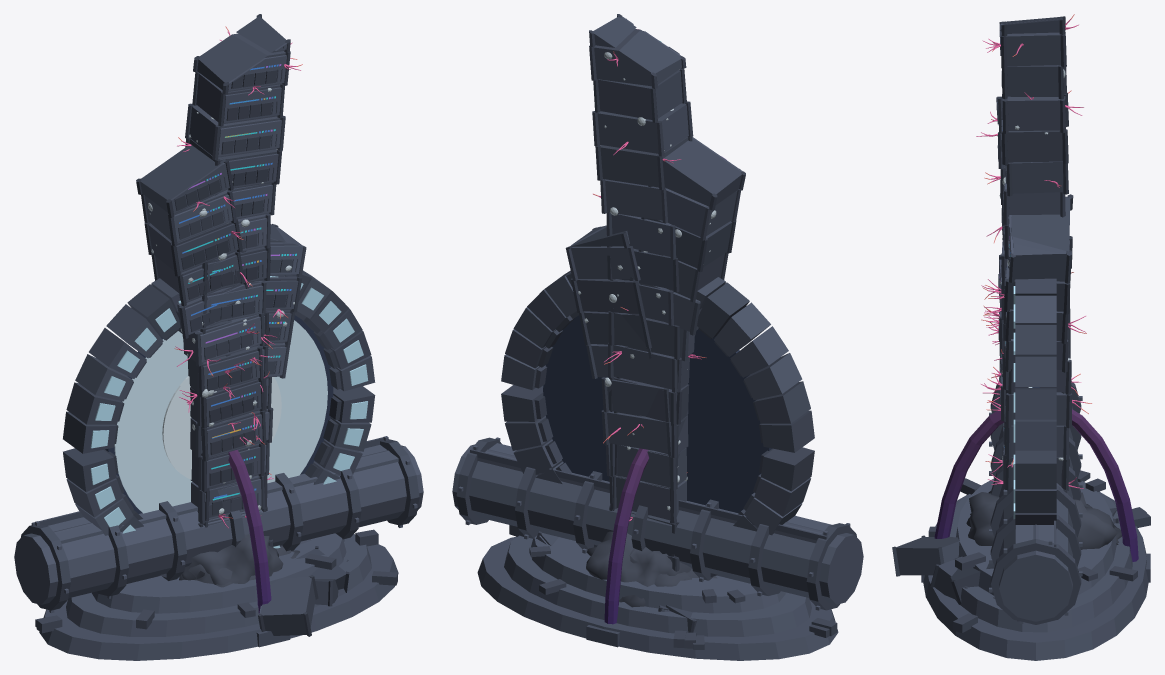
Rendered from kit.glb.
3 renders of one model, left to right at view 1: azimuth 30°, elevation 25°; view 2: azimuth 150°, elevation 25°; view 3: azimuth 270°, elevation 25°, orthographic. The views are drawn at different scales.
Parts seen in each view (by area): view 1: bridge_deck, tower_b, portal_plinth, tower_a, portal_disc, tower_c, portal_arc_2, portal_arc_1, portal_arc_3, portal_arc_4, bridge_arch, rock_b (+4 smaller); view 2: tower_a, bridge_deck, portal_plinth, portal_disc, tower_c, tower_b, portal_arc_2, portal_arc_1, portal_arc_3, portal_arc_4, bridge_arch, rock_b; view 3: portal_plinth, tower_a, tower_c, bridge_deck, portal_arc_1, bridge_arch, portal_arc_4, tower_b, rock_b.
Part boxes in pixels (box(x1,y1,x2,y2)): bridge_deck: box(14, 436, 423, 613); tower_b: box(136, 145, 338, 606); portal_plinth: box(35, 529, 398, 660); tower_a: box(177, 14, 348, 562); portal_disc: box(105, 315, 333, 513); tower_c: box(203, 224, 349, 636); portal_arc_2: box(63, 278, 180, 453); portal_arc_1: box(272, 270, 375, 391); portal_arc_3: box(63, 448, 166, 577); portal_arc_4: box(280, 386, 375, 546); bridge_arch: box(228, 449, 290, 647); rock_b: box(182, 534, 283, 585); tower_a: box(589, 14, 706, 571); bridge_deck: box(452, 437, 863, 610); portal_plinth: box(477, 525, 838, 660); portal_disc: box(543, 315, 772, 513); tower_c: box(536, 225, 687, 569); tower_b: box(609, 137, 745, 632); portal_arc_2: box(696, 277, 814, 452); portal_arc_1: box(501, 270, 578, 390); portal_arc_3: box(710, 447, 814, 577); portal_arc_4: box(501, 385, 597, 547); bridge_arch: box(586, 448, 648, 647); rock_b: box(586, 531, 691, 607); portal_plinth: box(923, 470, 1150, 660); tower_a: box(981, 14, 1083, 598); tower_c: box(892, 194, 1091, 604); bridge_deck: box(989, 381, 1082, 624); portal_arc_1: box(1015, 278, 1056, 450); bridge_arch: box(921, 409, 1150, 582); portal_arc_4: box(1015, 450, 1056, 528); tower_b: box(930, 96, 1118, 598); rock_b: box(966, 491, 1121, 549).
Size of what is drawn, in the model's own units: 6 by 8.7 by 3.49.
